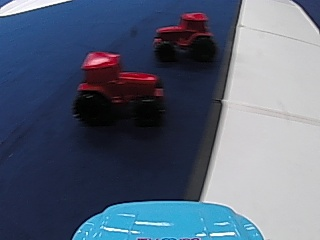tractor: (74, 46, 160, 126), (152, 9, 217, 63)
